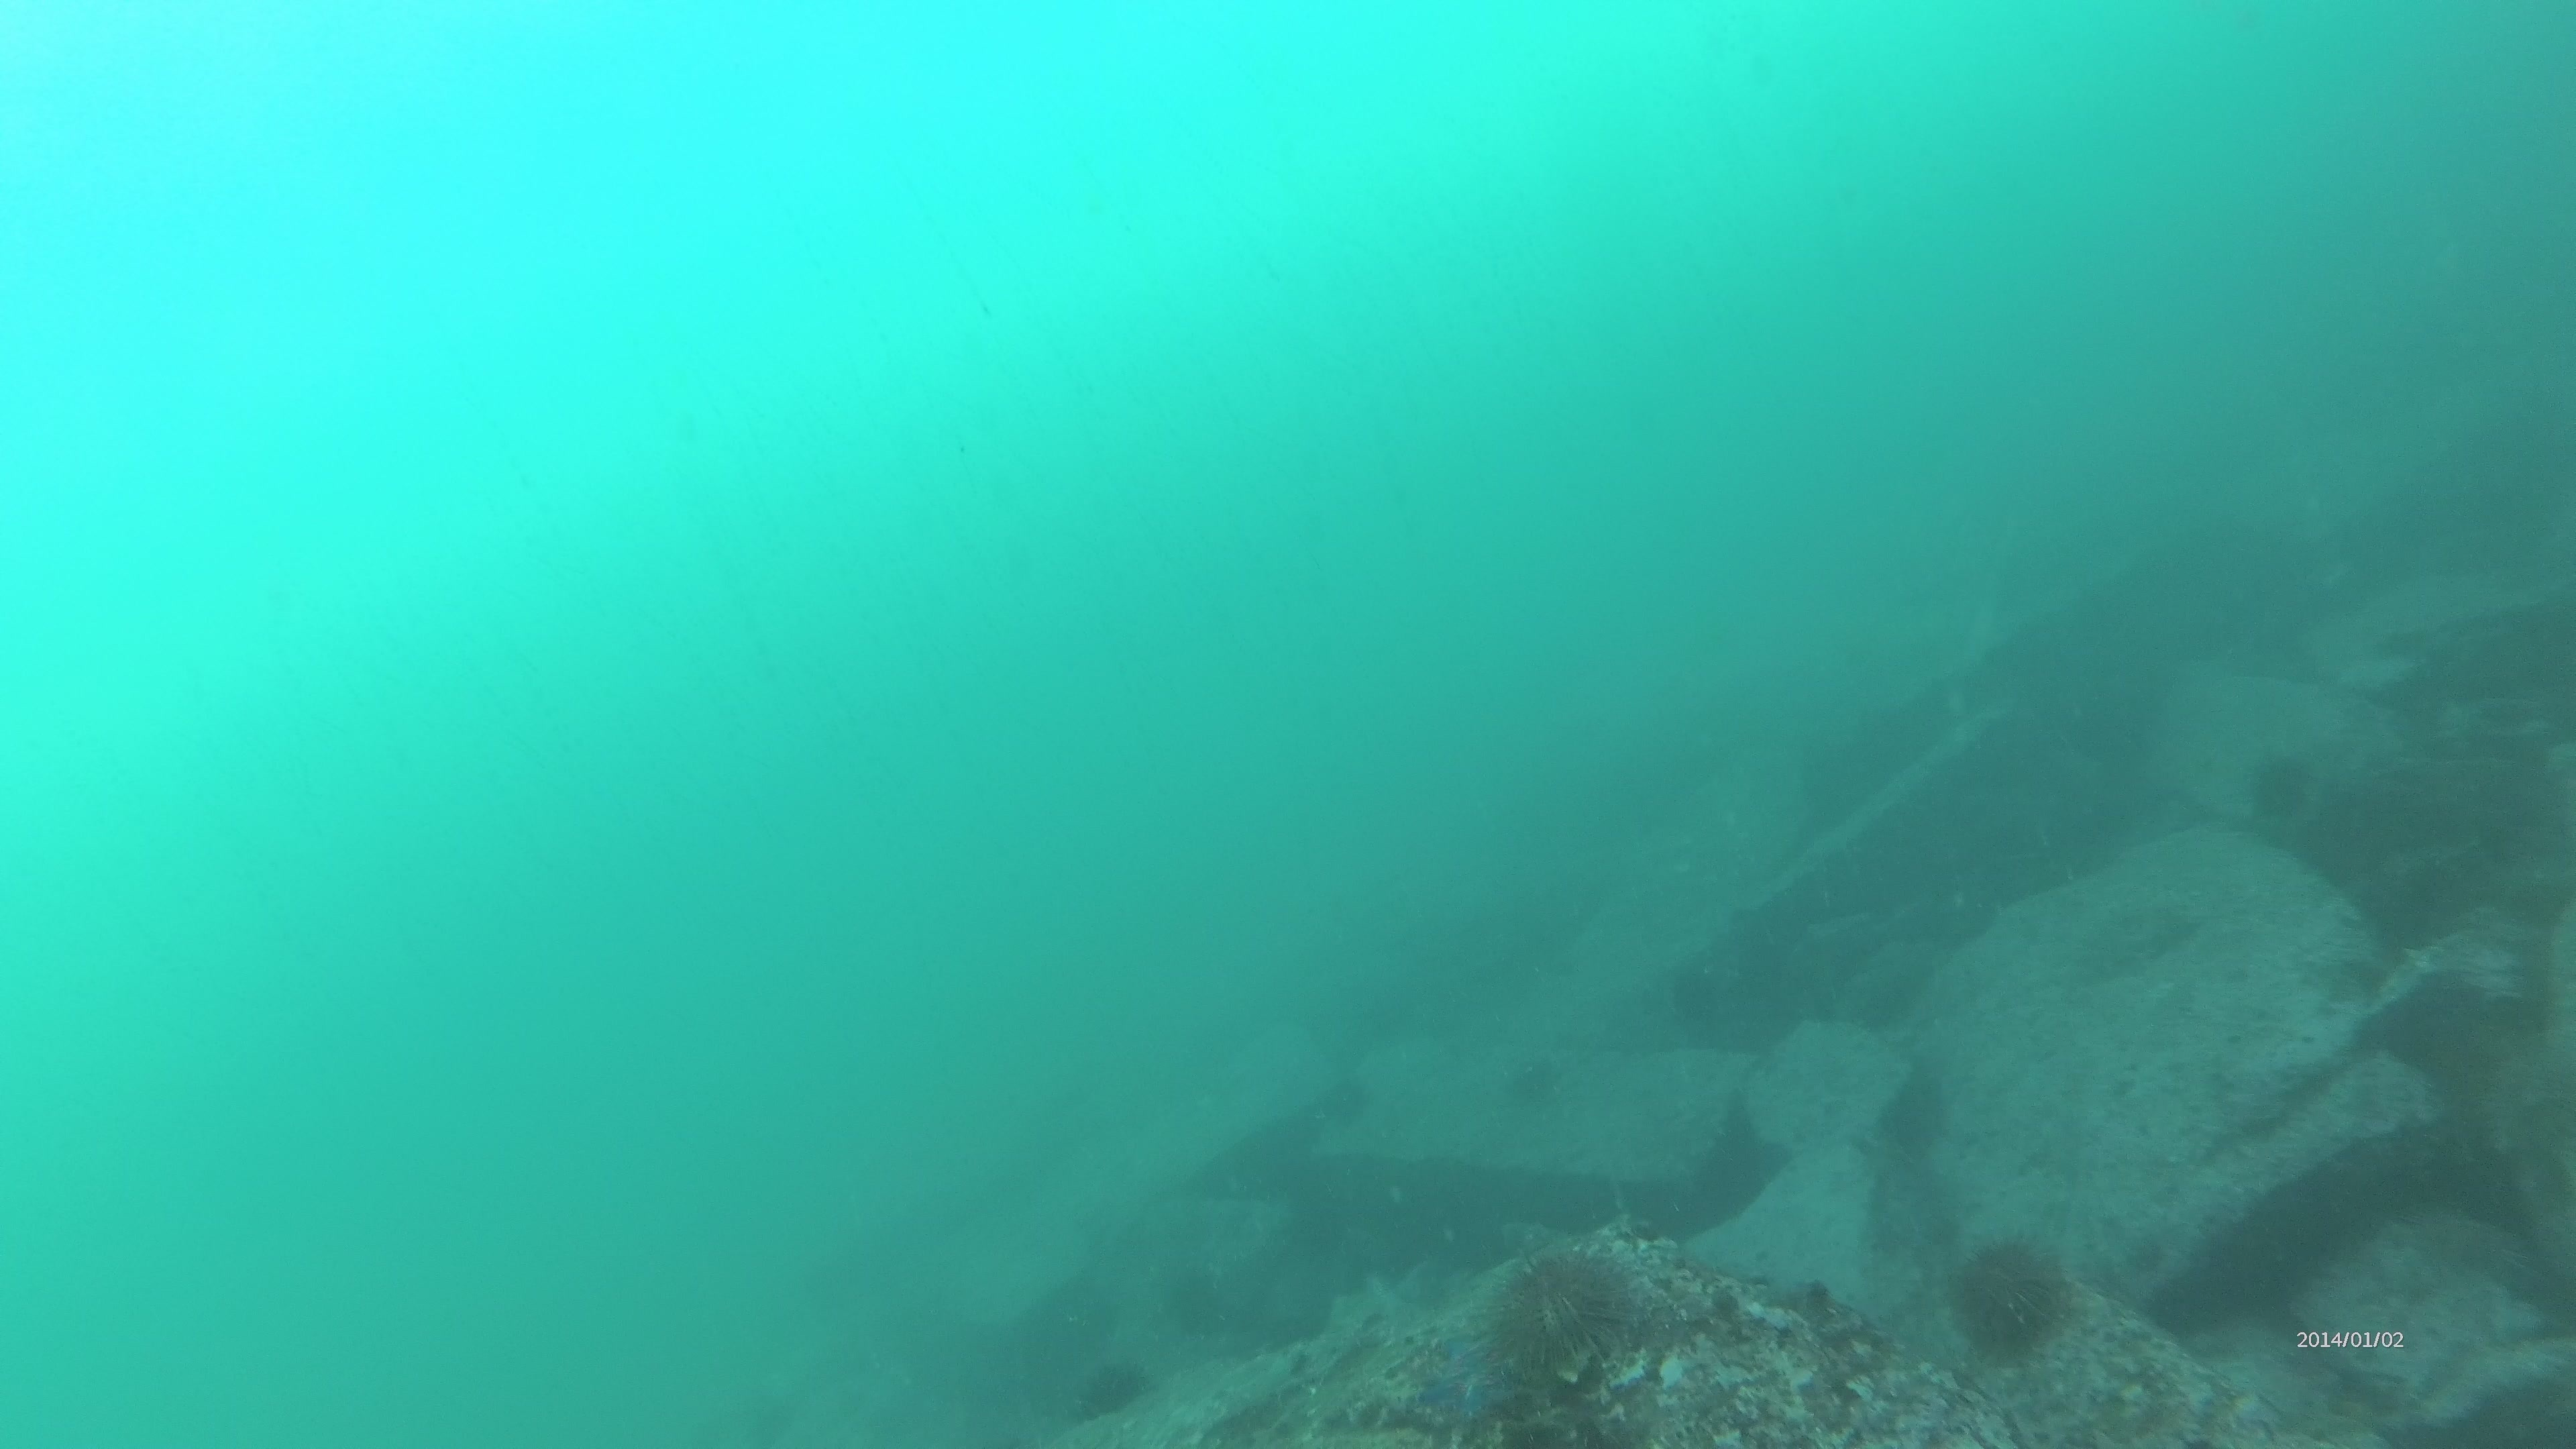echinus: (1474, 1237, 1640, 1385), (1944, 1230, 2079, 1361), (2238, 747, 2323, 835), (1069, 1352, 1157, 1424), (1511, 1051, 1562, 1102), (1677, 971, 1725, 1023), (1332, 1079, 1376, 1118)
